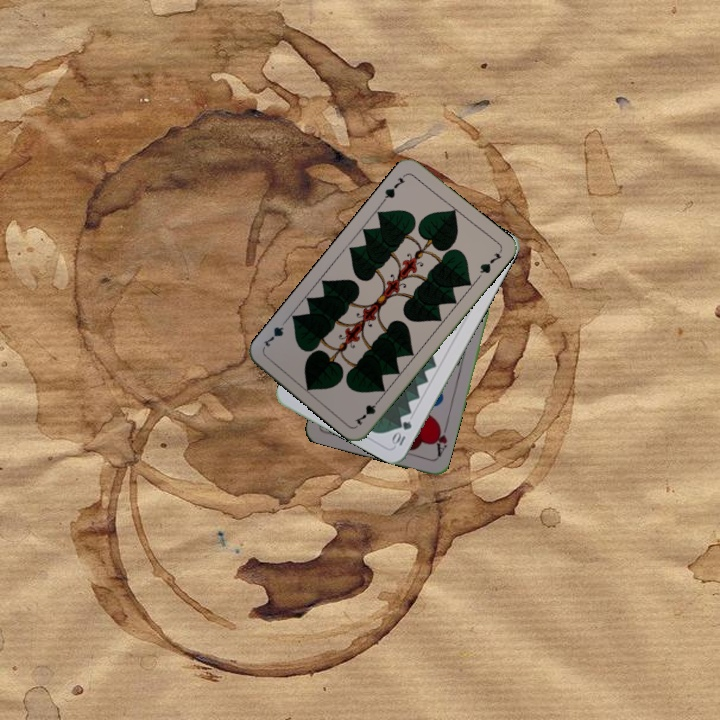G10: (388, 417, 414, 449)
G7: (351, 394, 384, 428), (378, 170, 409, 205)
HA: (430, 420, 451, 460)
